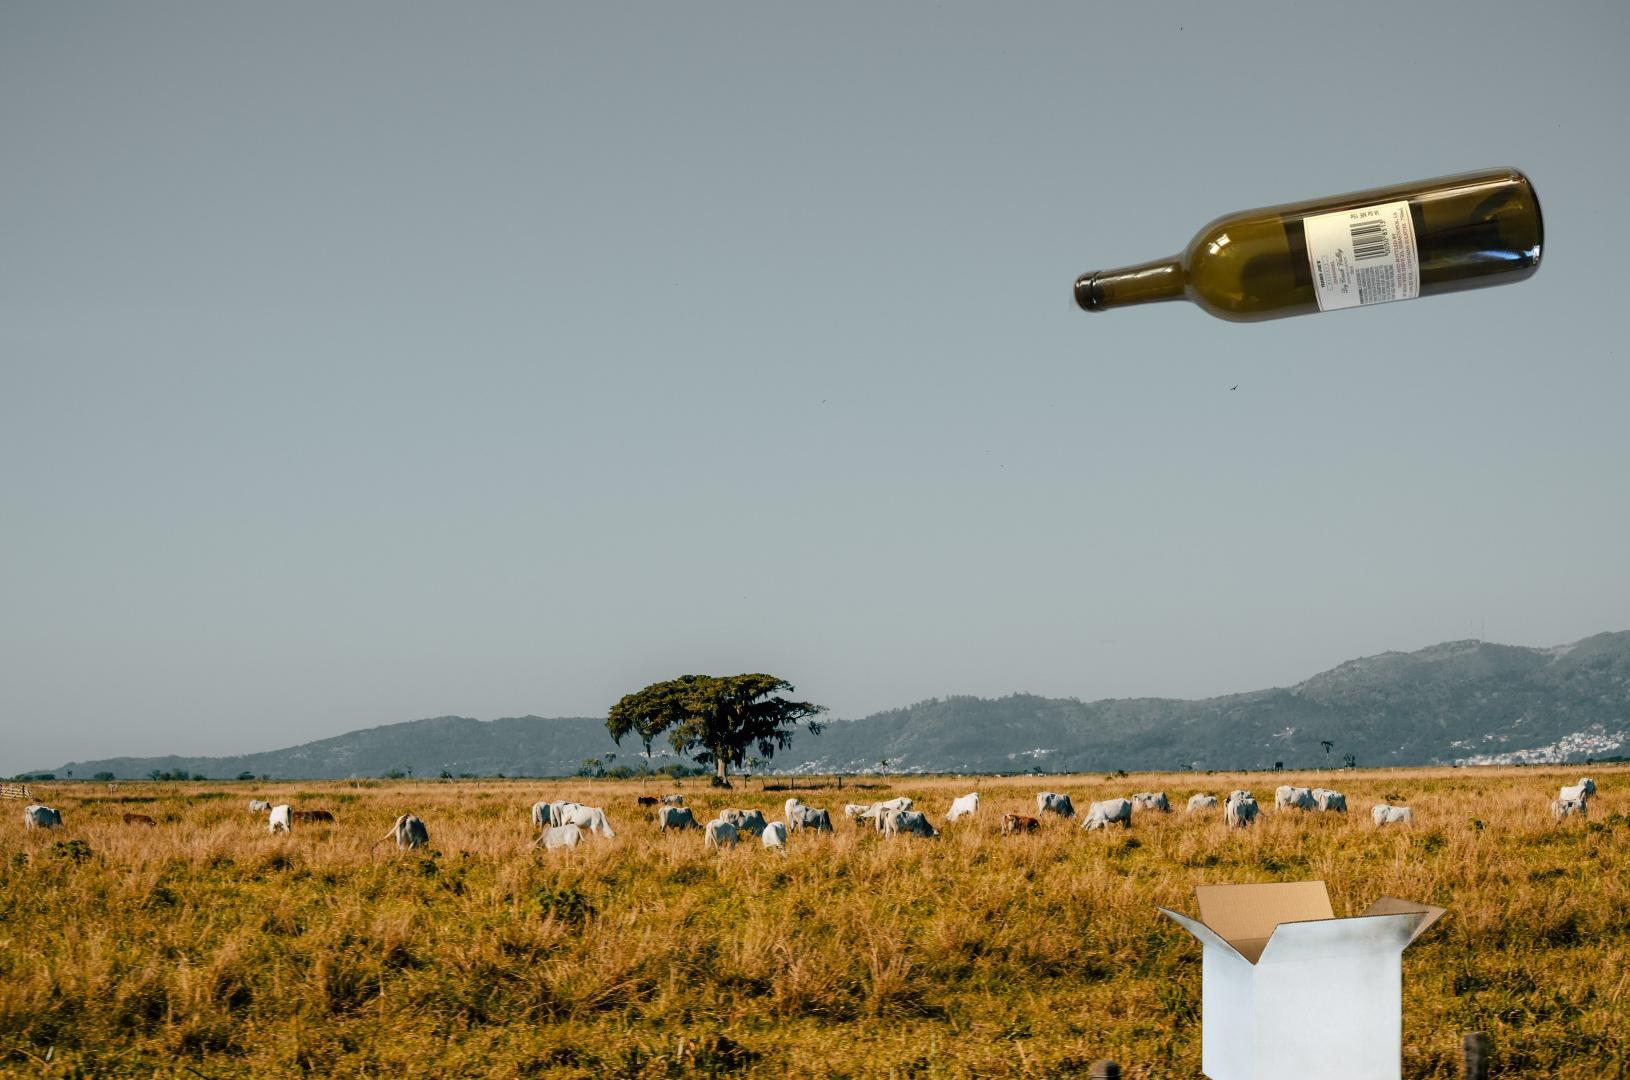glass: (1069, 164, 1549, 325)
trashbox-cardboard: (1151, 877, 1450, 1080)
